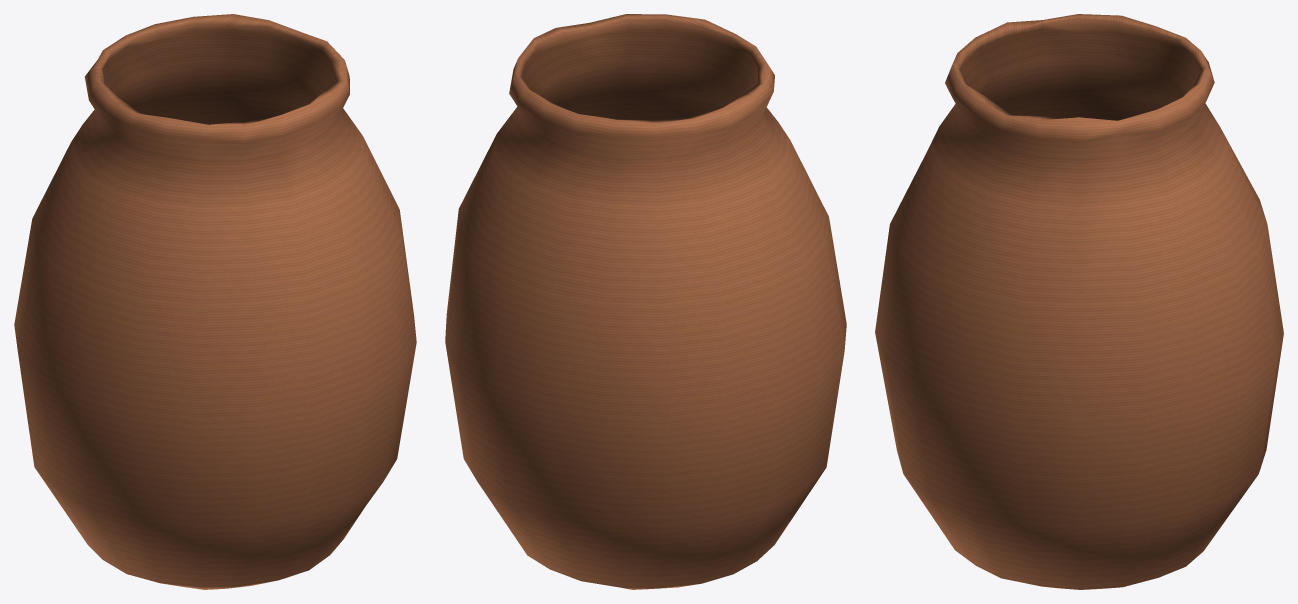
Rendered from storage.glb.
The picture shows the model from 3 angles, left to right: view 1: azimuth 30°, elevation 25°; view 2: azimuth 150°, elevation 25°; view 3: azimuth 270°, elevation 25°; orthographic projection.
Parts seen in each view (by area): view 1: storage; view 2: storage; view 3: storage.
Part boxes in pixels (left/top/right/bottom): storage: left=14, top=14, right=416, bottom=589; storage: left=445, top=14, right=846, bottom=589; storage: left=875, top=14, right=1283, bottom=589.
Size of the model in its own units: 0.7533 by 1.01 by 0.7519.
1 material, 1 textured.
